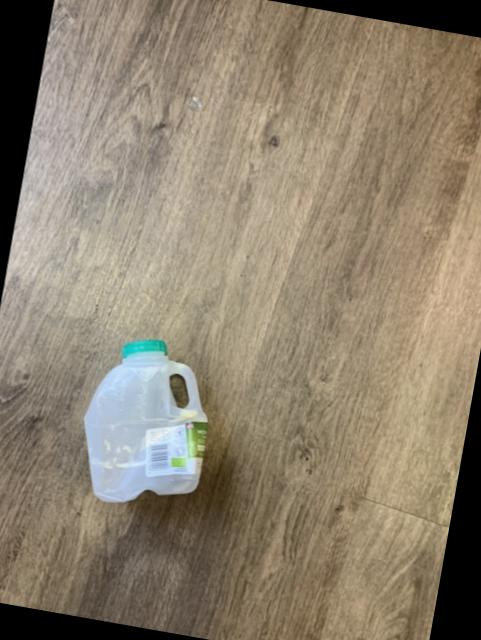plastic: (85, 338, 208, 500)
